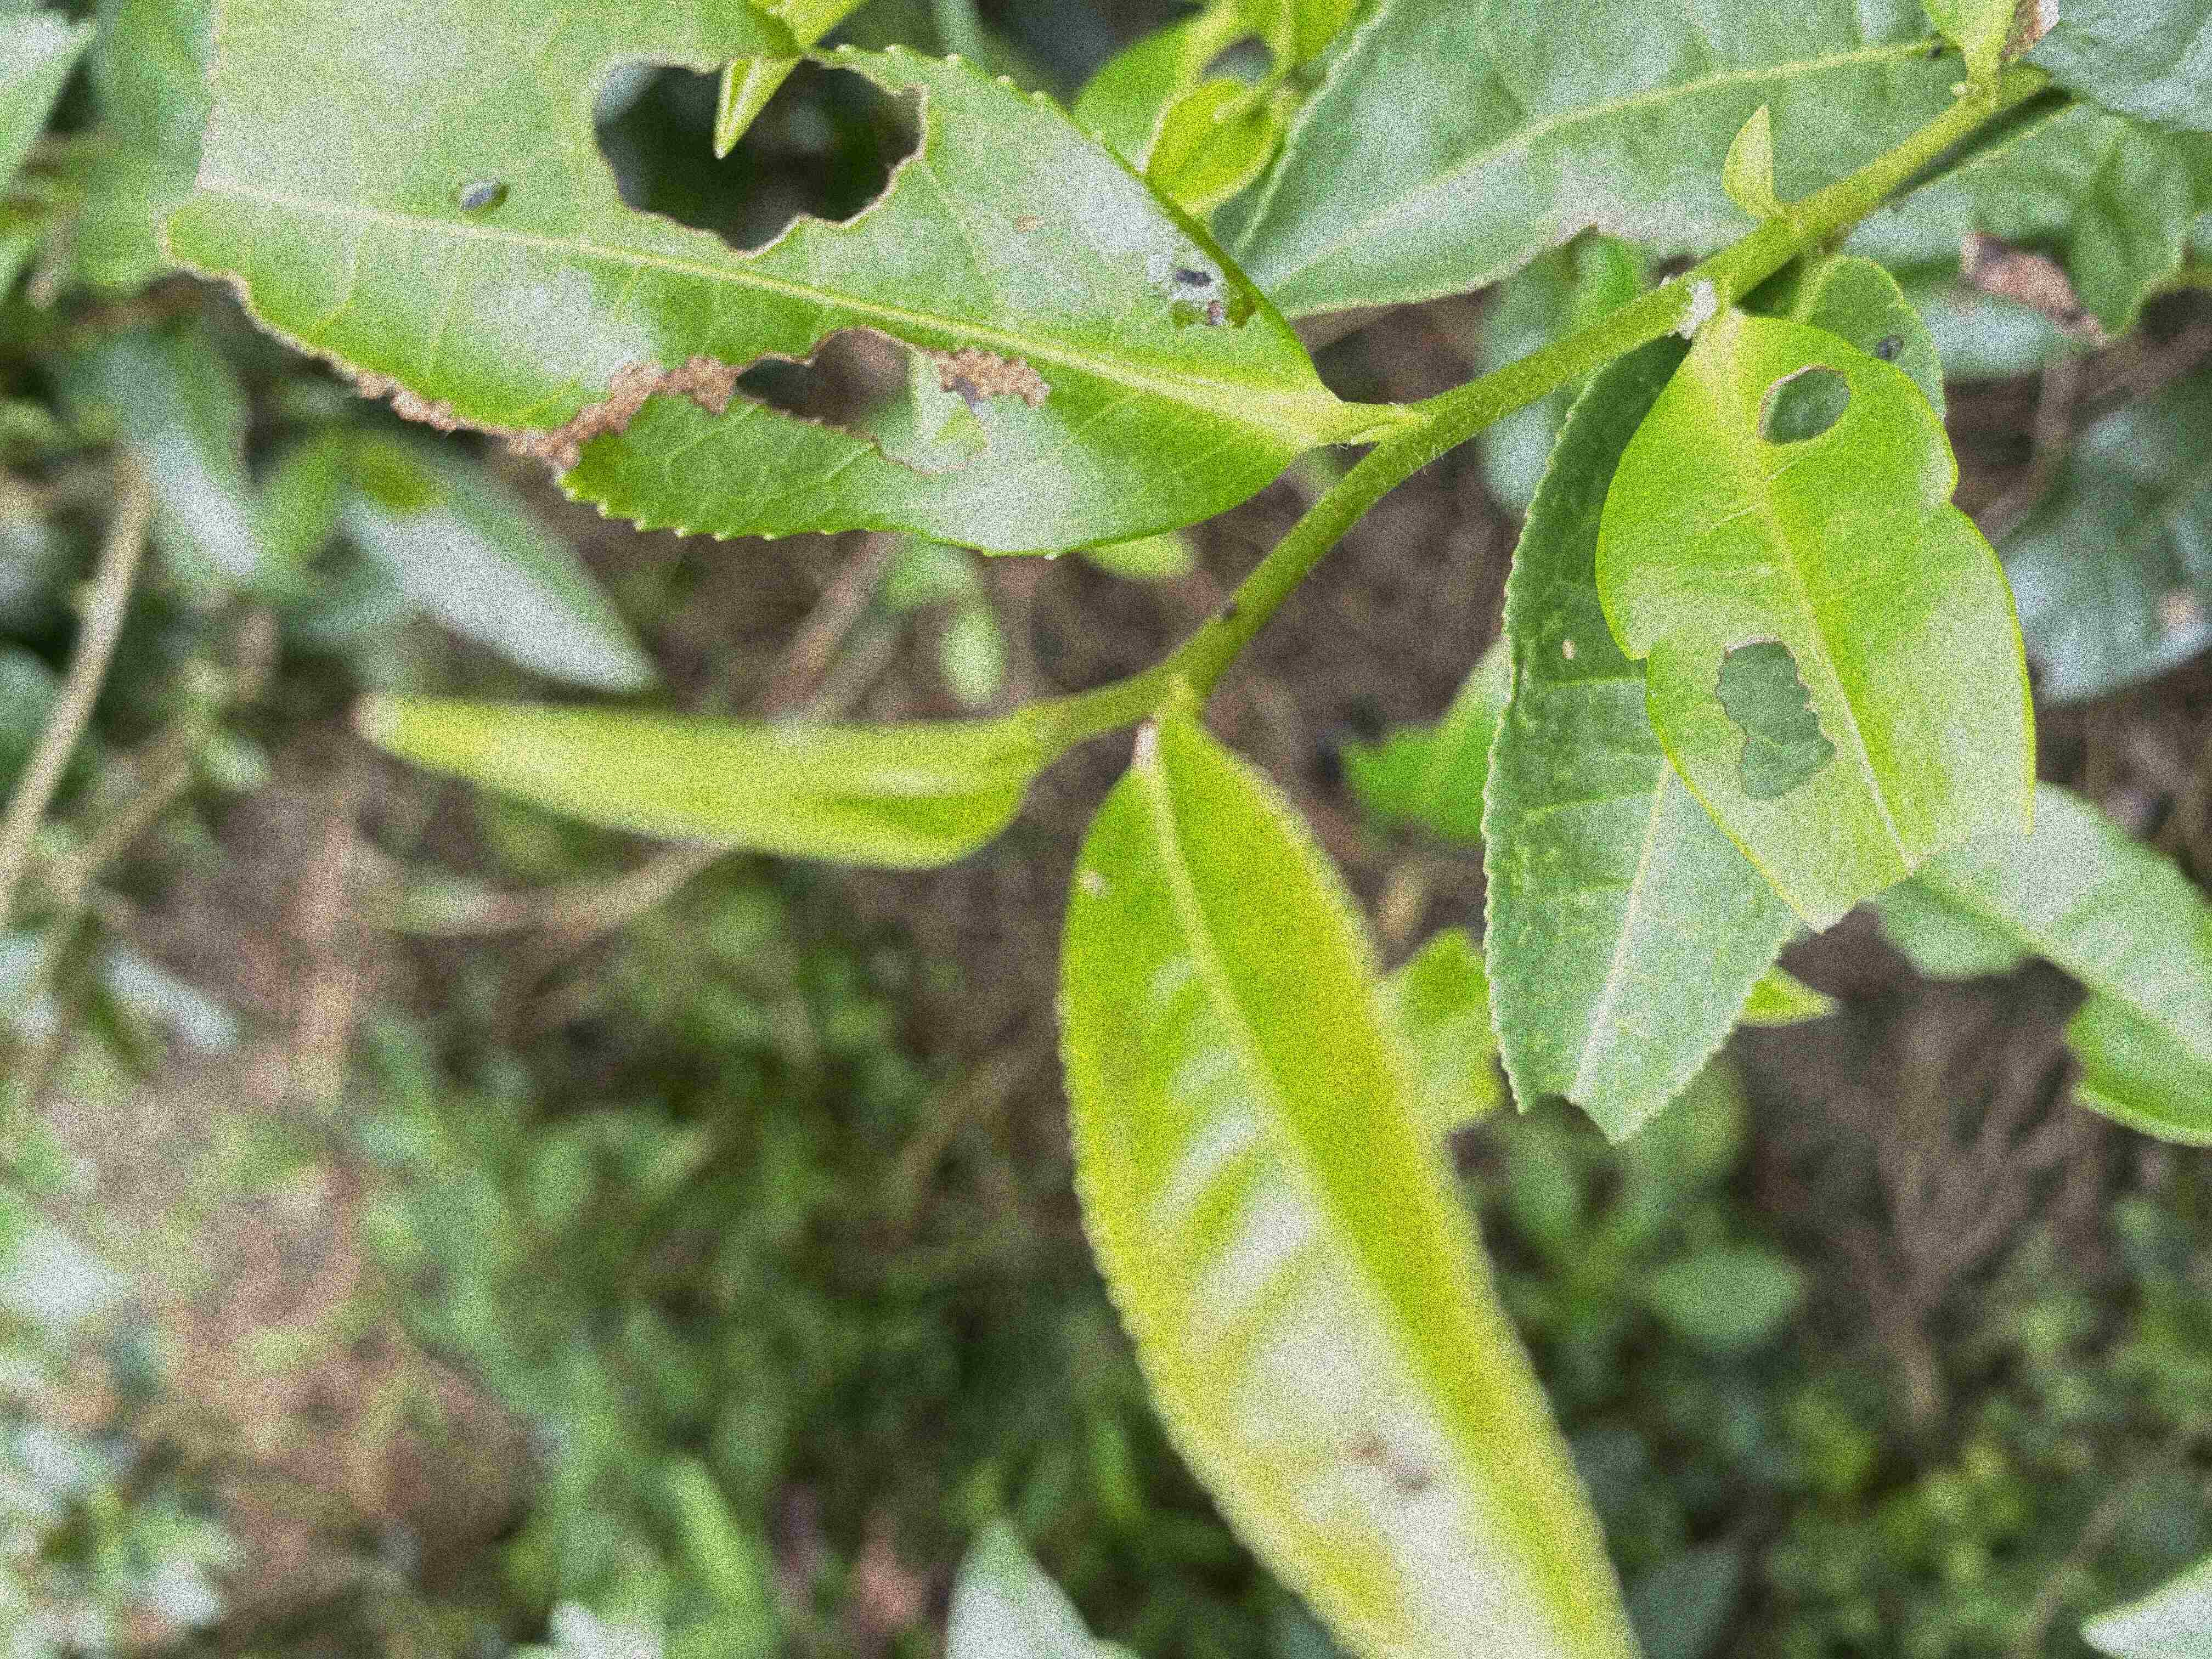chihuo_high: (155, 3, 1320, 563), (1588, 312, 2034, 931)
tanju_low: (1052, 702, 1637, 1657)
